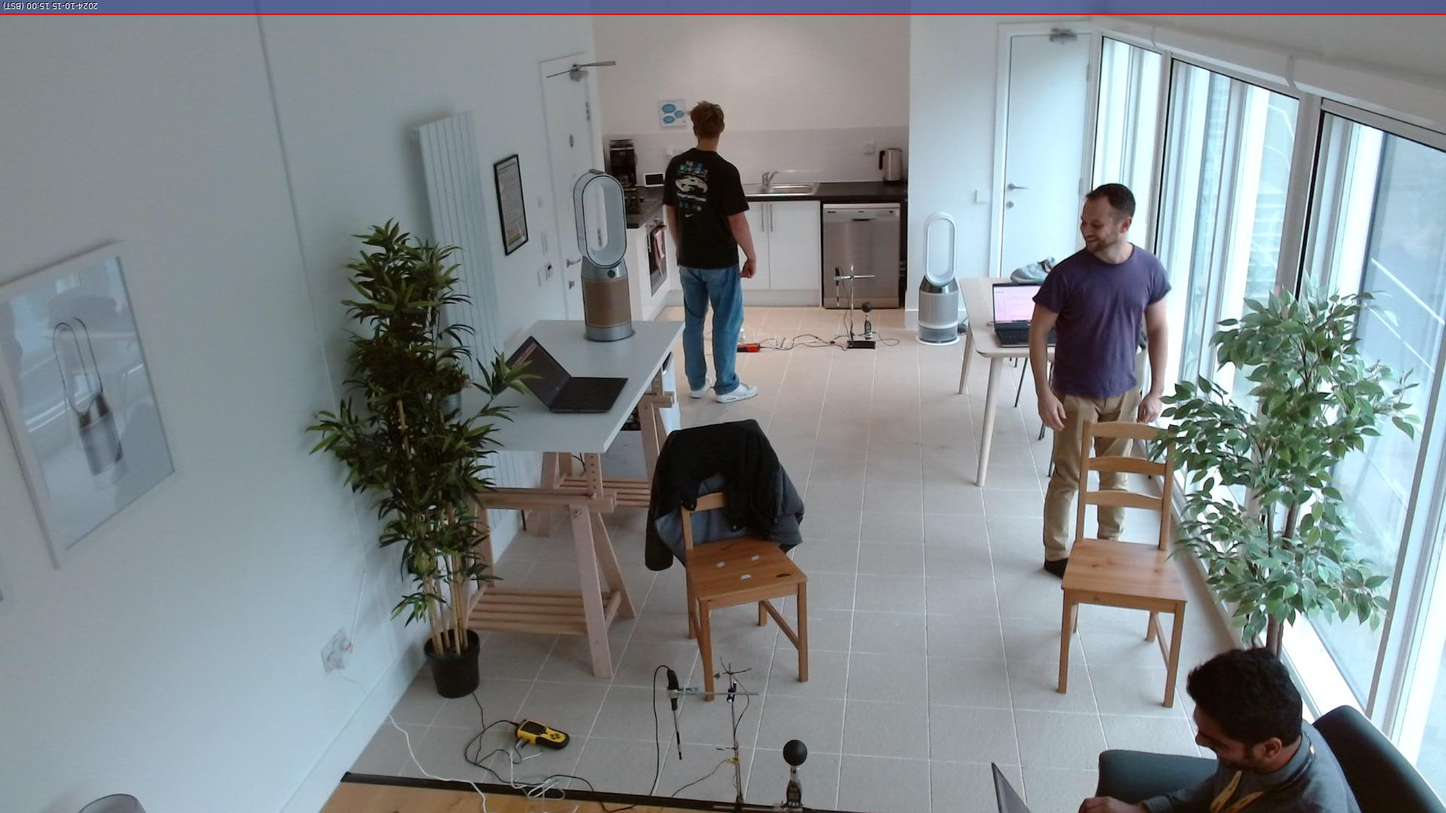long sleeve shirt: (1142, 716, 1362, 813)
short sleeve shirt: (1030, 242, 1172, 396), (661, 146, 749, 270)
trousers: (1040, 388, 1142, 562), (676, 262, 746, 394)
